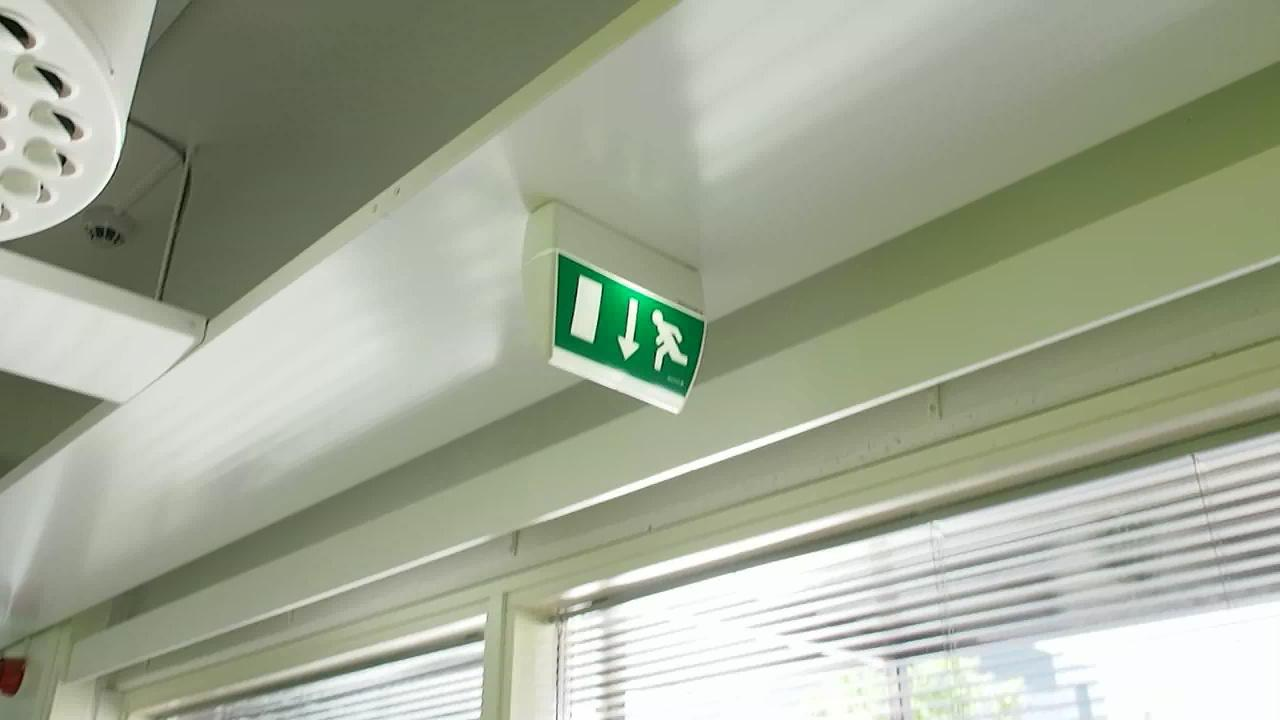exit: (545, 269, 703, 394)
